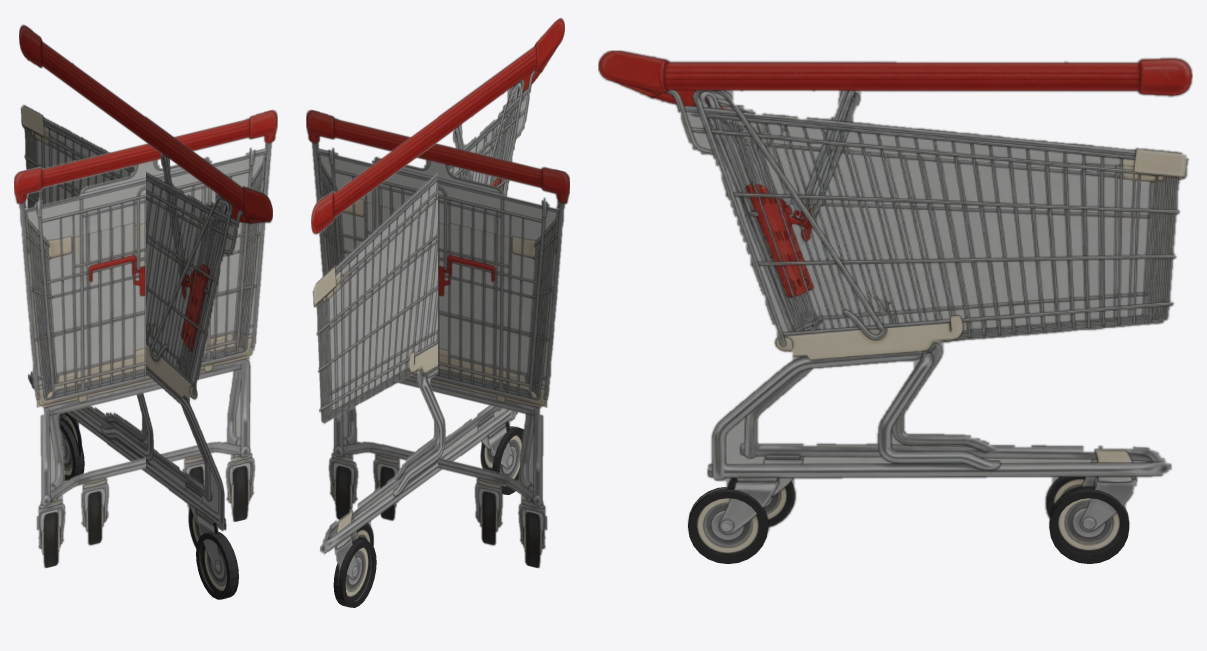
Rendered from shopping_cart.glb.
3 views of the same model, side by side, from view 1: azimuth 30°, elevation 25°; view 2: azimuth 150°, elevation 25°; view 3: azimuth 270°, elevation 25° (orthographic). The views are drawn at different scales.
Parts seen in each view (by area): view 1: shopping_cart, wheel_BC, wheel_FC; view 2: shopping_cart, wheel_FC, wheel_BC; view 3: shopping_cart, wheel_BC, wheel_FC.
Part boxes in pixels (<box>): shopping_cart: <box>14,24,277,599</box>; wheel_BC: <box>196,531,238,599</box>; wheel_FC: <box>58,419,84,480</box>; shopping_cart: <box>306,17,569,601</box>; wheel_FC: <box>333,540,376,607</box>; wheel_BC: <box>492,426,524,494</box>; shopping_cart: <box>598,50,1192,557</box>; wheel_BC: <box>688,487,767,563</box>; wheel_FC: <box>1049,489,1129,563</box>.
Bounding box in the file's own units: 0.5987 × 0.9471 × 0.9986.
Materials: 2 (1 with a texture image).
